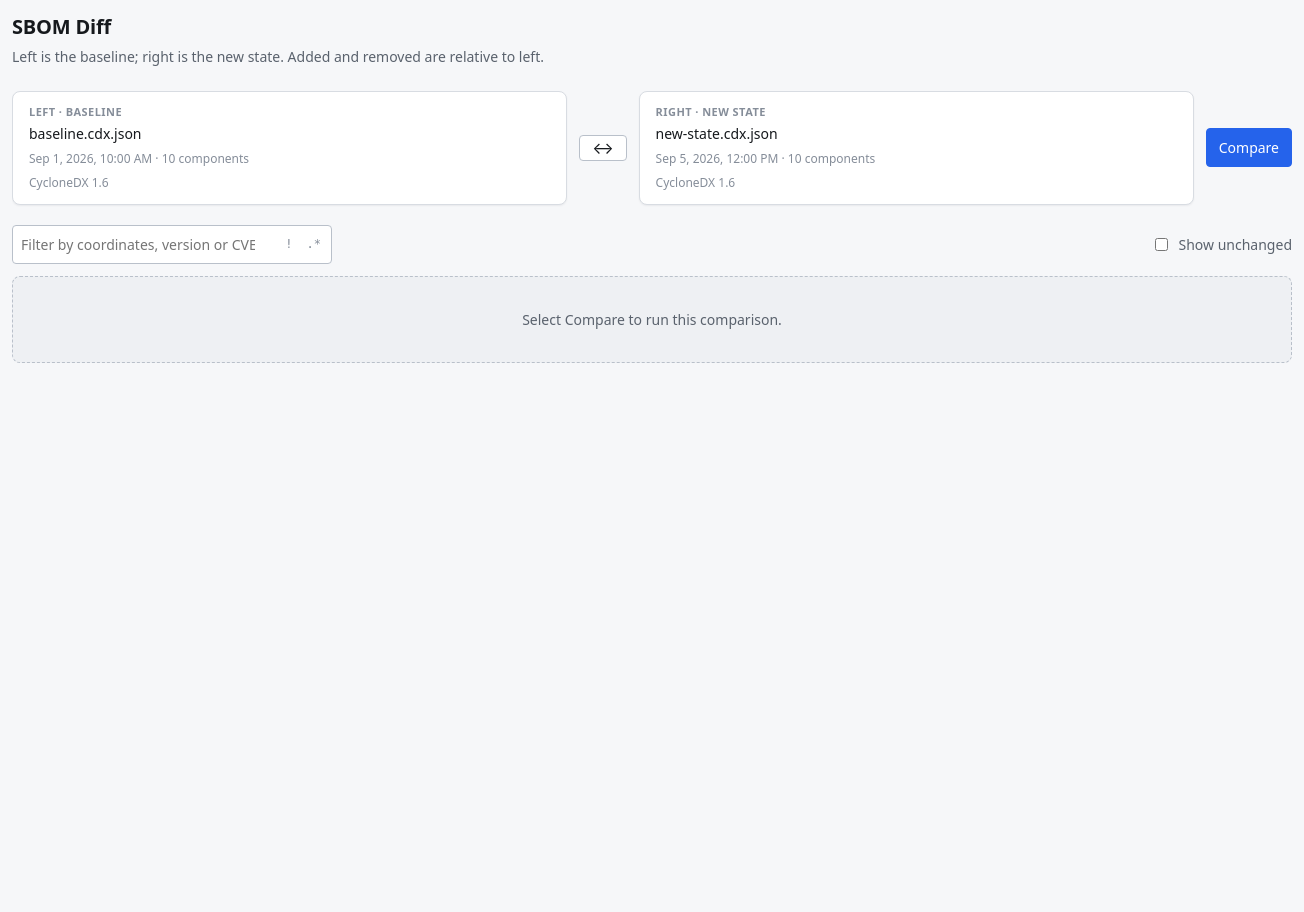
Scenario: DiffPage › shows the two version columns with no layout to choose
Click the button "Compare" at (1249, 148), box 1206,128 -> 1292,167
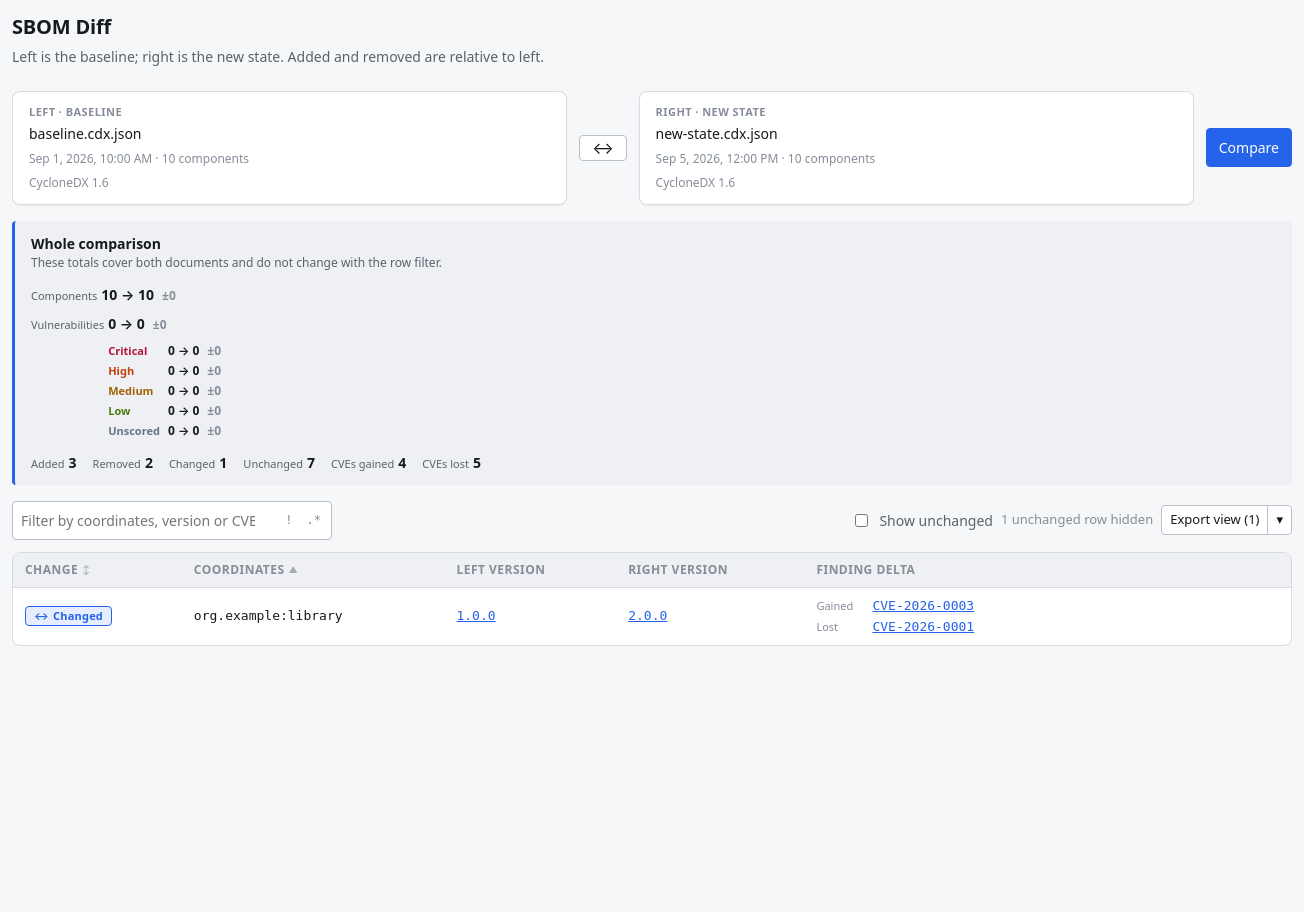
expect the text "org.example:library" is shown: met, box 182,588 -> 444,644
expect the column heading "Left version" is shown: met, box 444,552 -> 616,588
expect the column heading "Right version" is shown: met, box 616,552 -> 804,588
